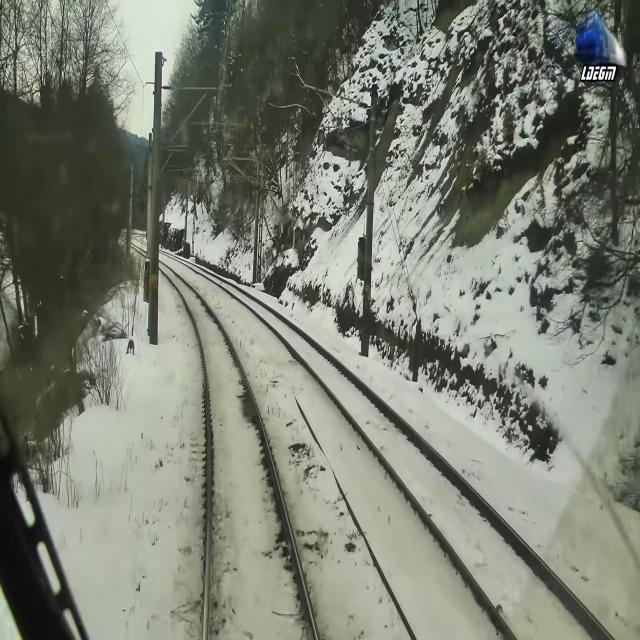rail-track: (171, 255, 608, 639), (159, 262, 314, 639)
